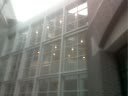window: (7, 17, 82, 96)
